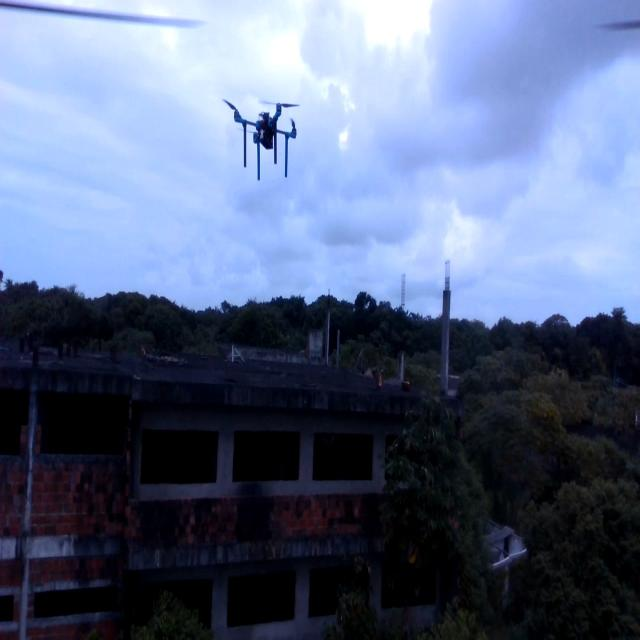-uav-: (216, 85, 306, 186)
